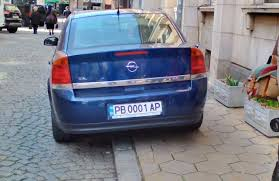registration_plate: (108, 101, 163, 119)
